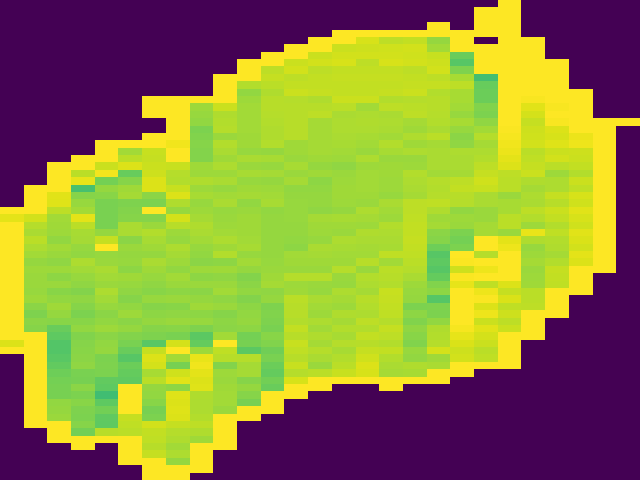car_0027: (2, 1, 640, 470)
